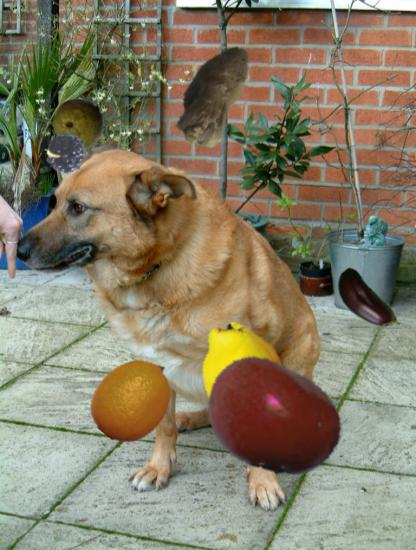Cherry: (205, 346, 346, 487)
Eggplant: (326, 263, 406, 343)
Ginger: (160, 40, 271, 151)
Guava: (52, 97, 107, 152)
Lemon: (88, 354, 179, 445)
Mulberry: (45, 130, 98, 183)
Quince: (192, 321, 296, 425)
